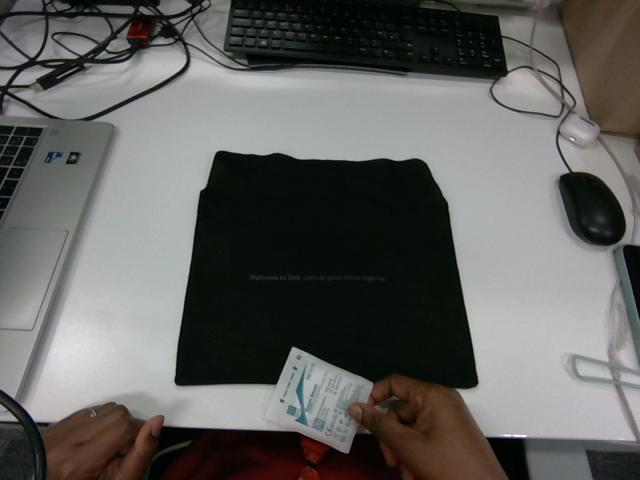gauze: (264, 347, 372, 452)
